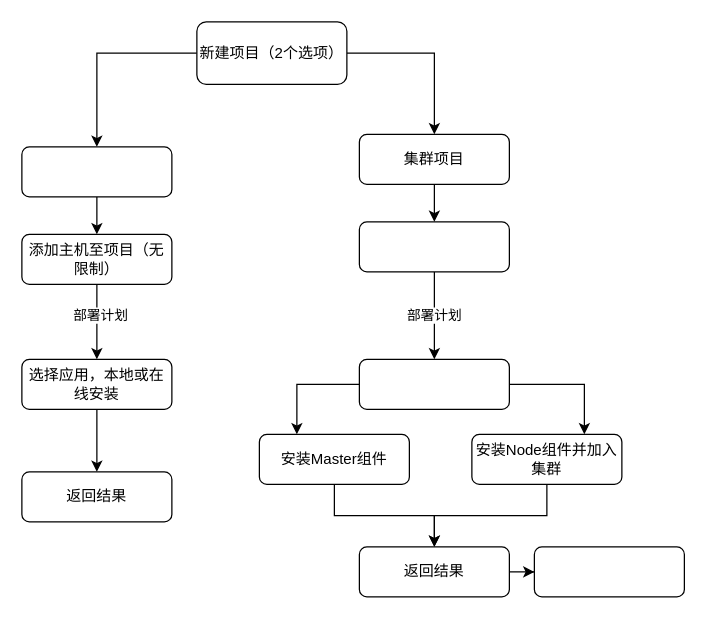
The diagram is 706 pixels wide and 619 high, and some of its shapes have lost their labels. Here are the shapes that lost their labels. From the top down, the centre of each, then its label:
At [96,171]: "应用部署".
At [433,246]: "添加主机至项目（只能添加未分配）".
At [433,383]: "选择Master、Node".
At [608,571]: "持续获取集群健康信息".
